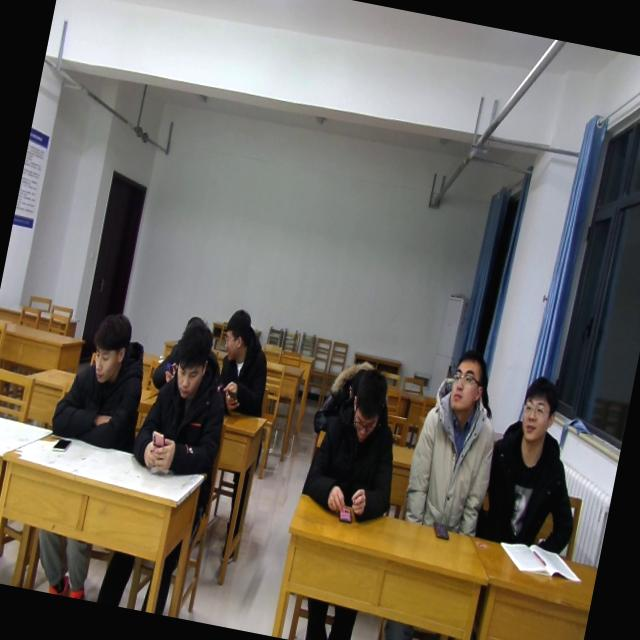bow: (312, 351, 382, 442)
down: (80, 300, 140, 390), (340, 356, 394, 449), (167, 312, 220, 404)
lookup: (512, 366, 568, 449), (440, 342, 495, 426)
sit: (473, 368, 600, 556), (401, 343, 514, 538), (126, 312, 242, 485), (297, 361, 413, 526), (47, 302, 158, 456), (210, 304, 282, 422)
